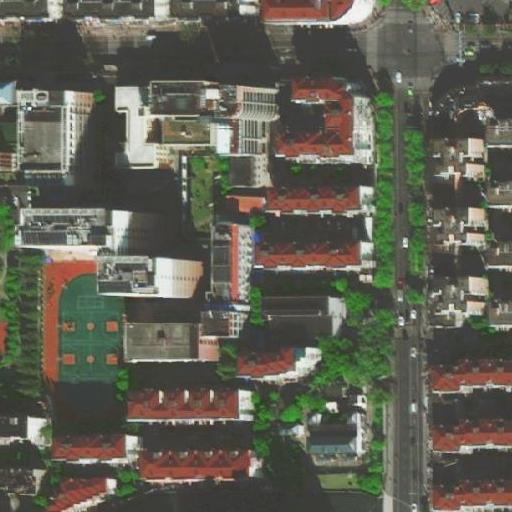building: (114, 85, 215, 172), (275, 83, 371, 168), (16, 93, 99, 188), (16, 208, 165, 257), (151, 81, 276, 121), (138, 389, 255, 422), (420, 276, 482, 334), (141, 449, 251, 480), (430, 73, 512, 114), (213, 219, 251, 307), (140, 322, 215, 364), (263, 240, 370, 269), (177, 148, 210, 239), (434, 417, 511, 453), (45, 475, 118, 512), (431, 360, 512, 393), (272, 186, 370, 213), (435, 478, 512, 510), (243, 346, 321, 377), (54, 434, 134, 463), (432, 206, 480, 250), (309, 414, 362, 453), (440, 135, 481, 181), (265, 295, 346, 318), (459, 15, 512, 43), (228, 119, 266, 156), (0, 410, 39, 441), (220, 190, 266, 214), (0, 465, 41, 491), (268, 413, 303, 436), (482, 178, 511, 203), (0, 307, 12, 354), (0, 77, 17, 106), (0, 151, 14, 171)
